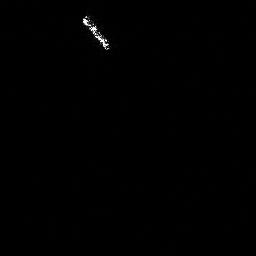ship: (80, 15, 111, 52)
